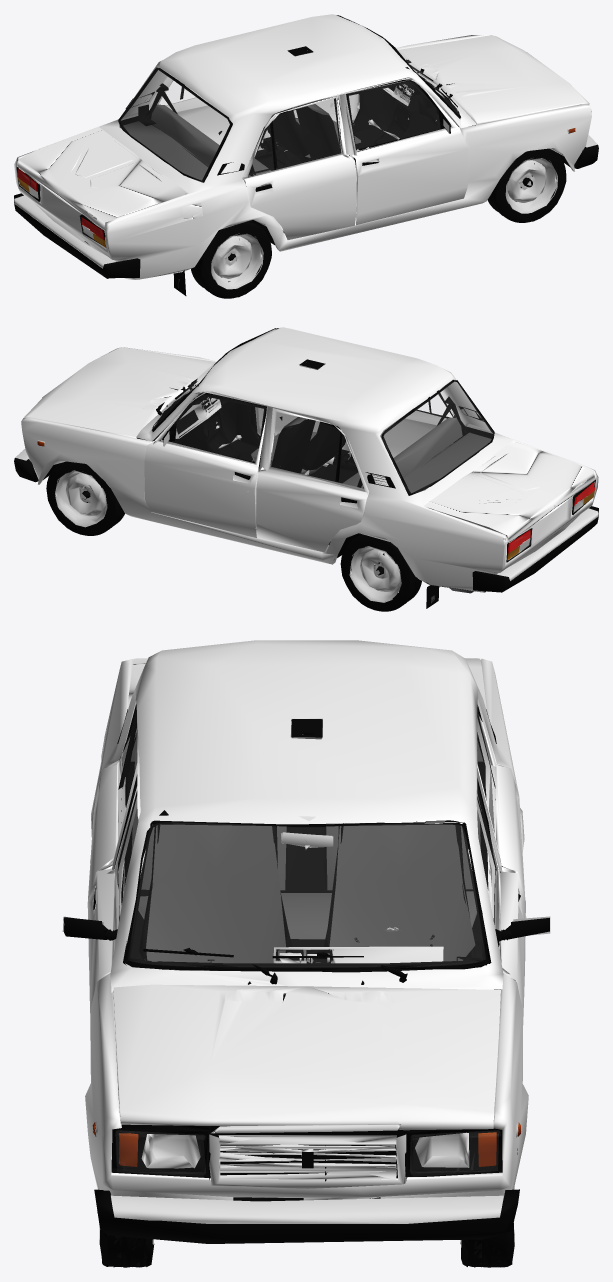
Rendered from vaz2107.glb.
3 renders of one model, top to bottom at view 1: azimuth 30°, elevation 25°; view 2: azimuth 150°, elevation 25°; view 3: azimuth 270°, elevation 25°, orthographic. The views are drawn at different scales.
Visible parts, largest first — view 1: paint, Black, Chrome, wheel2_tire, wheel2_Silver, wheel3_Silver, Mat, wheel3_tire, white, body, red light; view 2: paint, Black, Chrome, Mat, wheel0_tire, wheel0_Silver, wheel1_Silver, white, wheel1_tire, body, red light; view 3: paint, Mat, Black, Chrome, body, wheel1_tire, wheel3_tire, front orange light.
Boxes of the visible parts, bbox=[...] form: paint: bbox=[14, 14, 591, 279]; Black: bbox=[14, 15, 598, 295]; Chrome: bbox=[14, 36, 597, 268]; wheel2_tire: bbox=[191, 220, 271, 298]; wheel2_Silver: bbox=[211, 233, 263, 289]; wheel3_Silver: bbox=[505, 158, 557, 213]; Mat: bbox=[151, 104, 360, 185]; wheel3_tire: bbox=[487, 148, 566, 222]; white: bbox=[17, 121, 208, 288]; body: bbox=[287, 46, 589, 159]; red light: bbox=[17, 168, 104, 239]; paint: bbox=[21, 327, 598, 592]; Black: bbox=[14, 328, 598, 608]; Chrome: bbox=[15, 349, 598, 580]; Mat: bbox=[251, 417, 462, 488]; wheel0_tire: bbox=[340, 534, 421, 611]; wheel0_Silver: bbox=[349, 546, 401, 602]; wheel1_Silver: bbox=[55, 470, 107, 527]; white: bbox=[403, 432, 557, 603]; wheel1_tire: bbox=[46, 461, 124, 535]; body: bbox=[163, 328, 355, 465]; red light: bbox=[508, 482, 595, 553]; paint: bbox=[85, 640, 528, 1223]; Mat: bbox=[131, 749, 480, 1001]; Black: bbox=[63, 704, 549, 1243]; Chrome: bbox=[62, 718, 550, 1223]; body: bbox=[95, 719, 481, 1212]; wheel1_tire: bbox=[461, 1223, 514, 1267]; wheel3_tire: bbox=[99, 1229, 154, 1267]; front orange light: bbox=[92, 1122, 520, 1166].
Size of what is drawn, in the model's own units: 4.08 by 1.42 by 1.72.
Materials: 34 (2 with a texture image).
